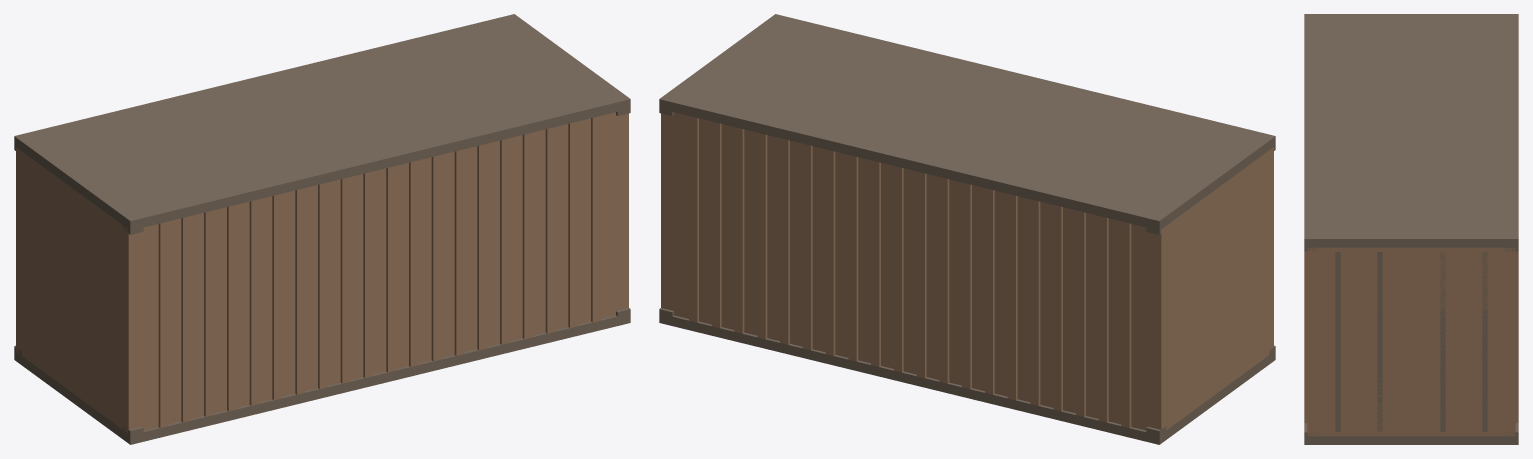
The model's file is SM_Container_Rust.fbx.
3 renders of one model, left to right at view 1: azimuth 30°, elevation 25°; view 2: azimuth 150°, elevation 25°; view 3: azimuth 270°, elevation 25°, orthographic. The views are drawn at different scales.
Parts seen in each view (by area): view 1: SM_Container_Rust.001; view 2: SM_Container_Rust.001; view 3: SM_Container_Rust.001.
Boxes of the visible parts, x1,y1,x2,y2 form: SM_Container_Rust.001: [14, 14, 630, 444]; SM_Container_Rust.001: [659, 14, 1275, 444]; SM_Container_Rust.001: [1304, 14, 1518, 444].
Bounding box in the file's own units: 606 × 259 × 244.
